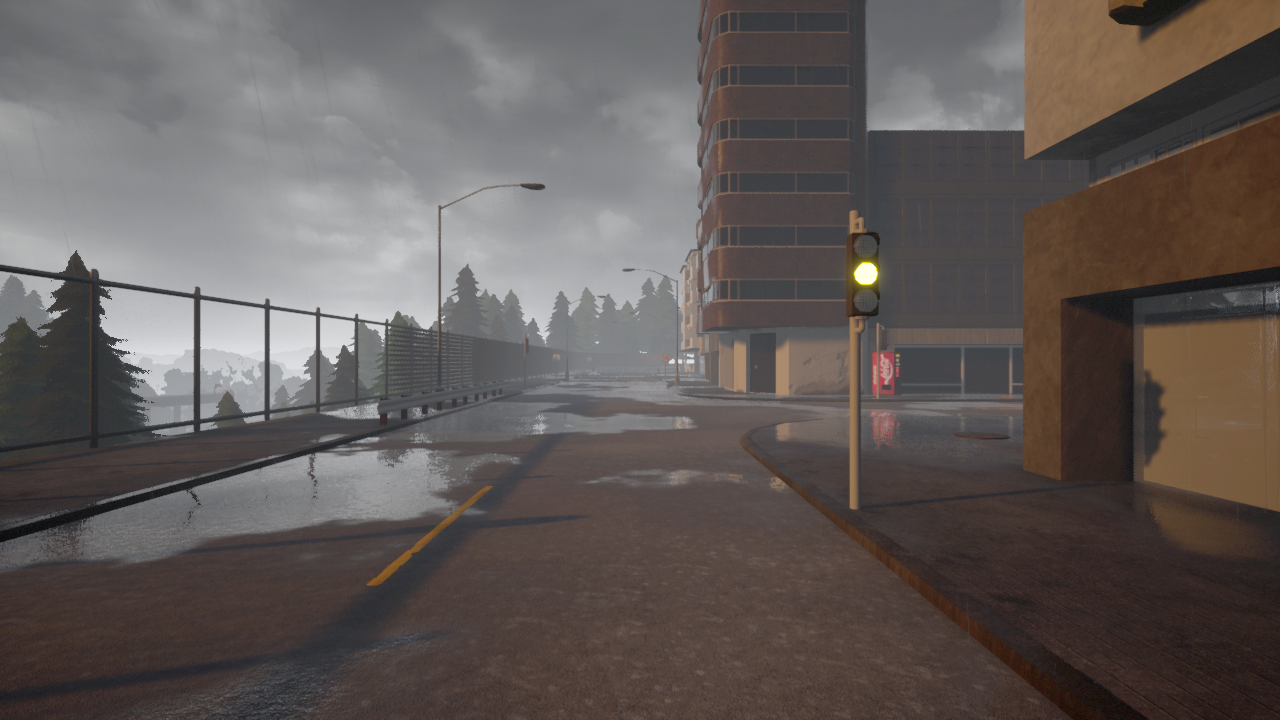yellow: (845, 230, 882, 322)
